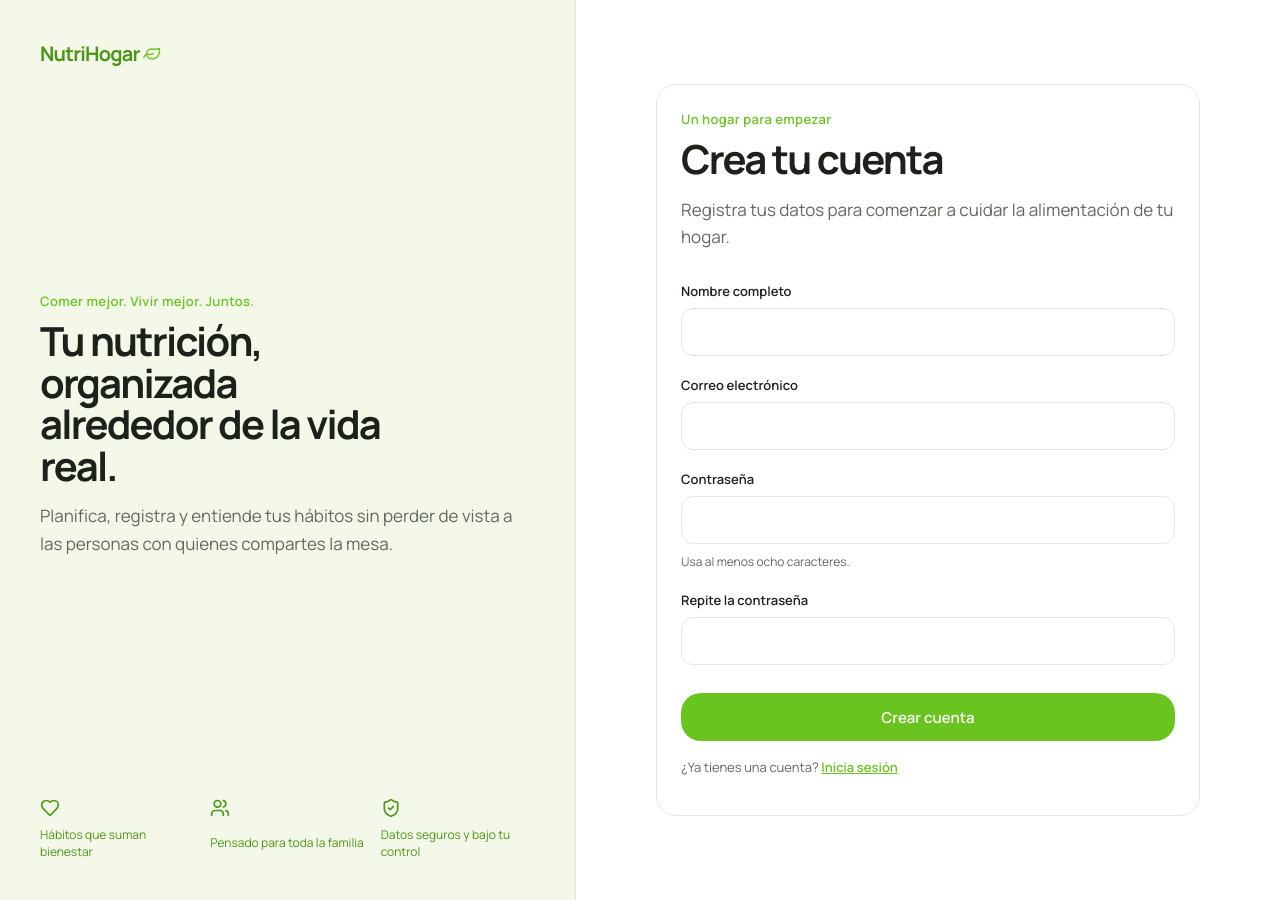
Test: RegisterPage › registers and asks the user to confirm the email
Step 1. Type "Alejandro Sojo" into the field labelled "Nombre completo" → x=928, y=332, box [681,308,1175,356]
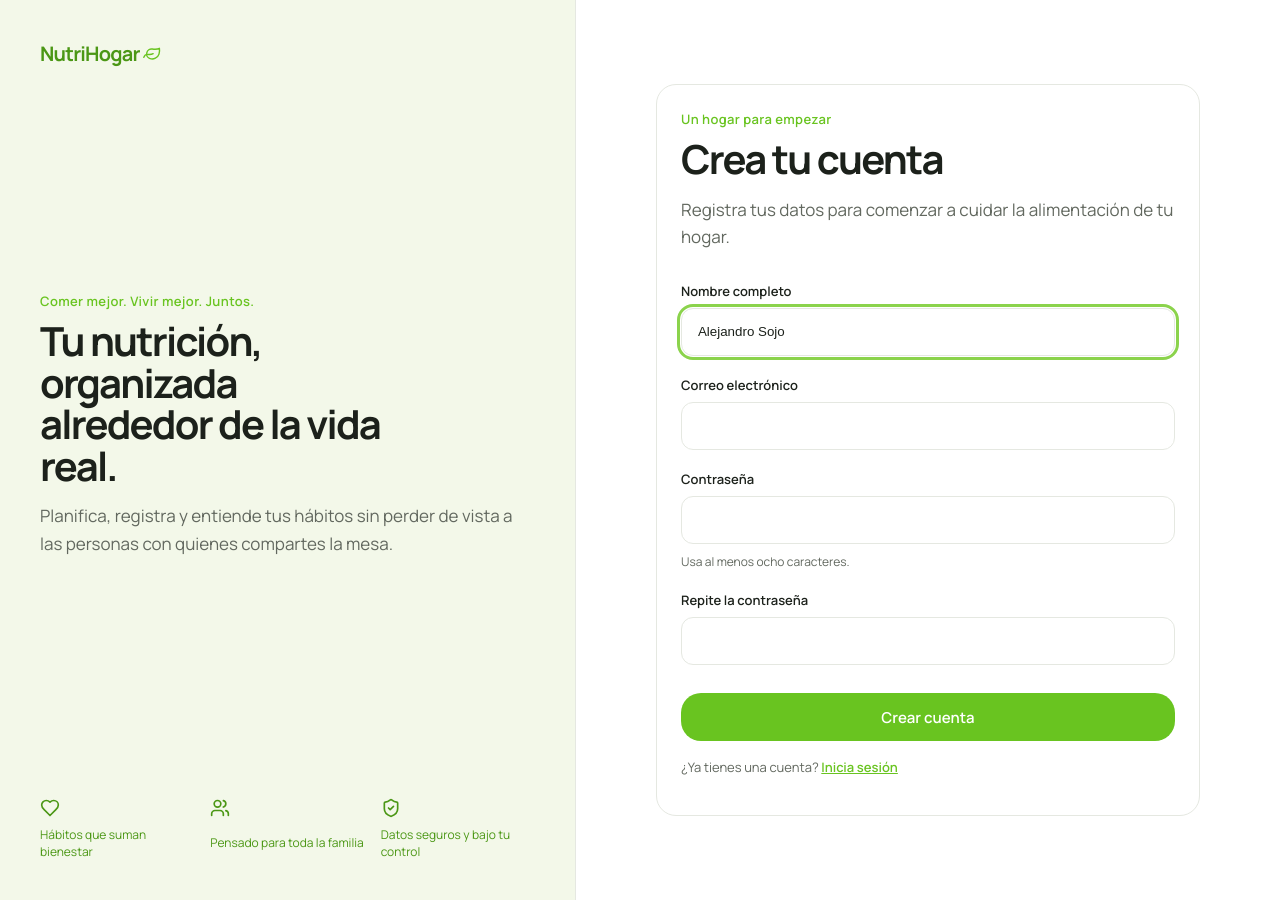
Step 2. Type "adult@example.com" into the field labelled "Correo electrónico" → x=928, y=426, box [681,402,1175,450]
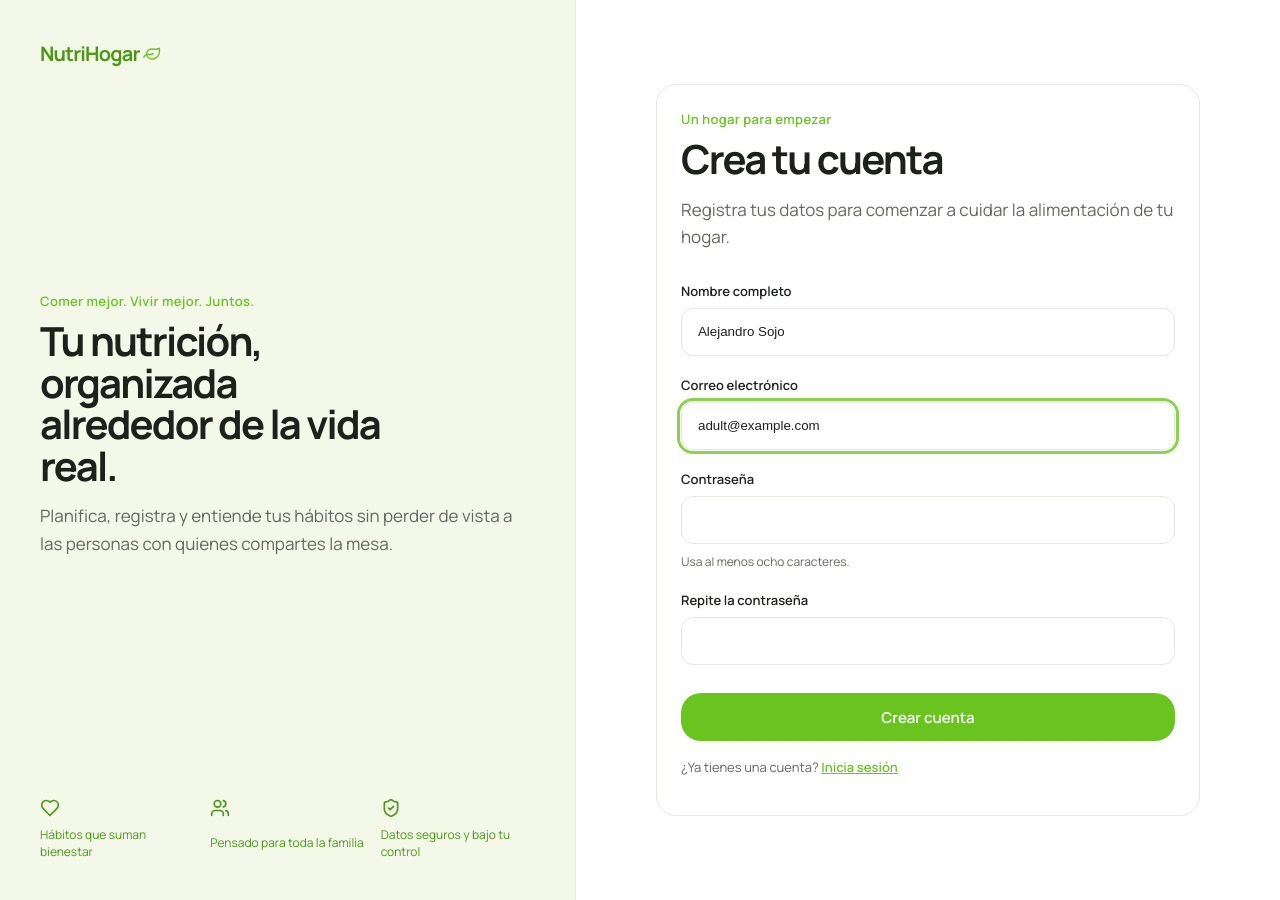
Step 3. Type "secret-password" into the password field labelled "Contraseña" → x=928, y=520, box [681,496,1175,544]
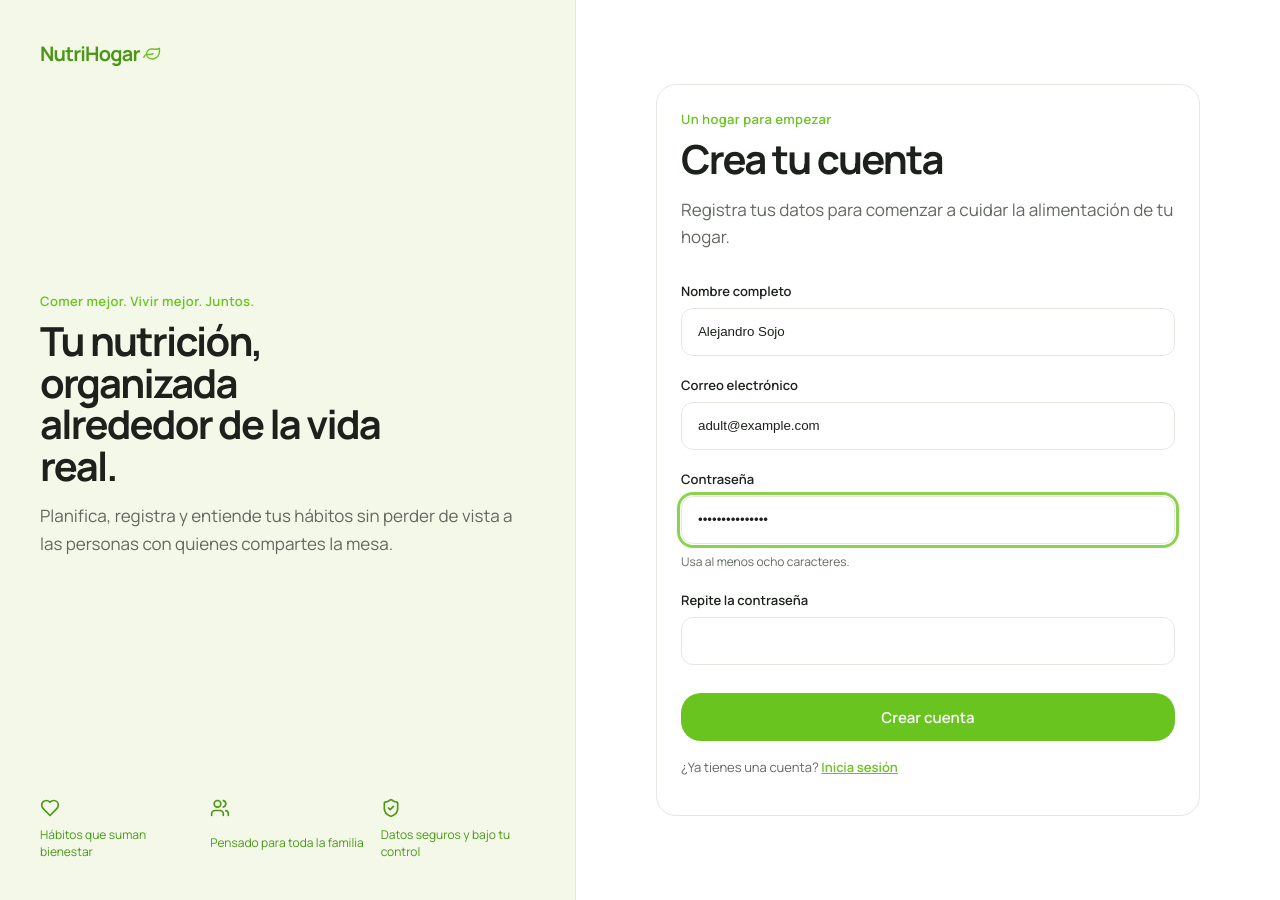
Step 4. Type "secret-password" into the password field labelled "Repite la contraseña" → x=928, y=641, box [681,617,1175,665]
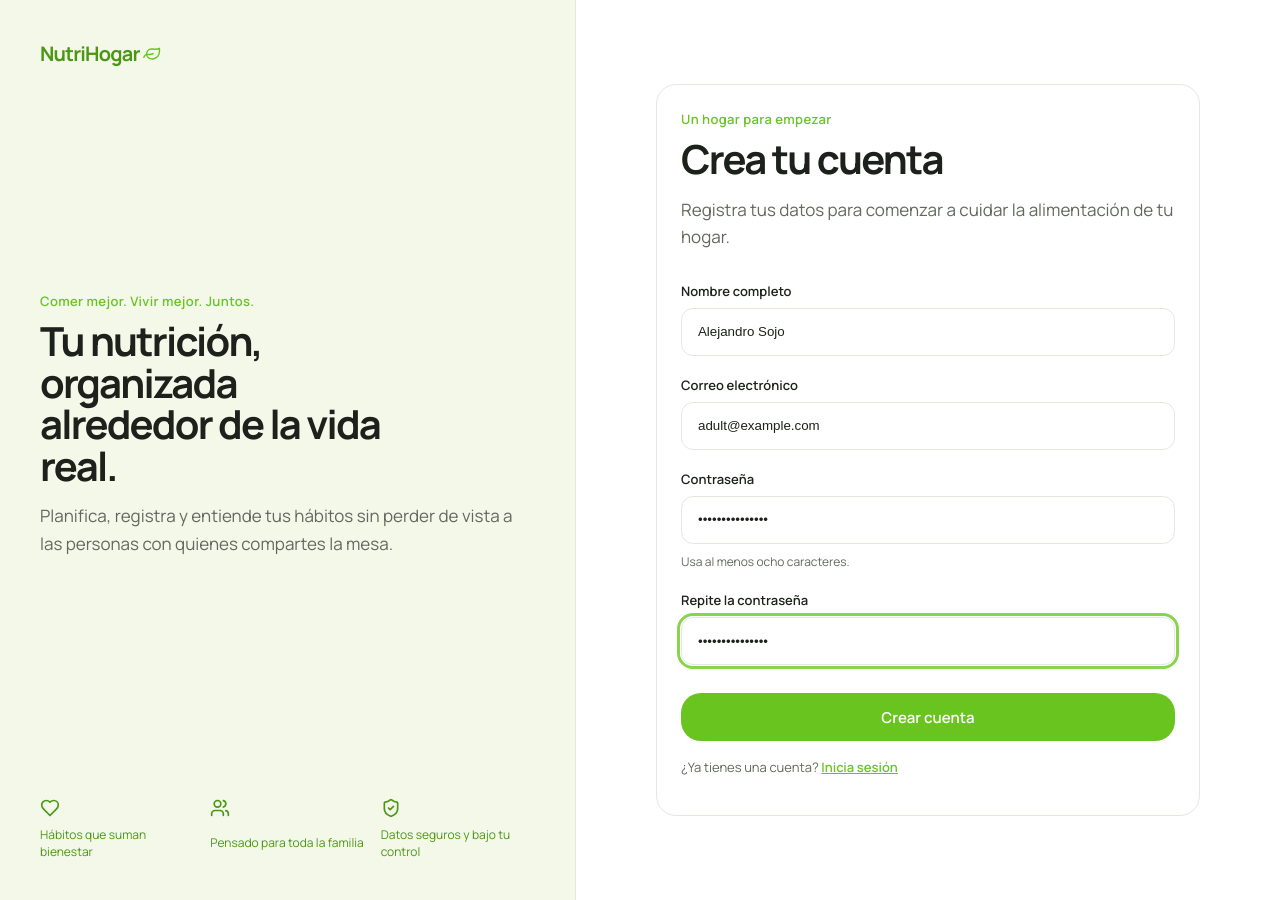
Step 5. Click the button "Crear cuenta" → x=928, y=717, box [681,693,1175,741]
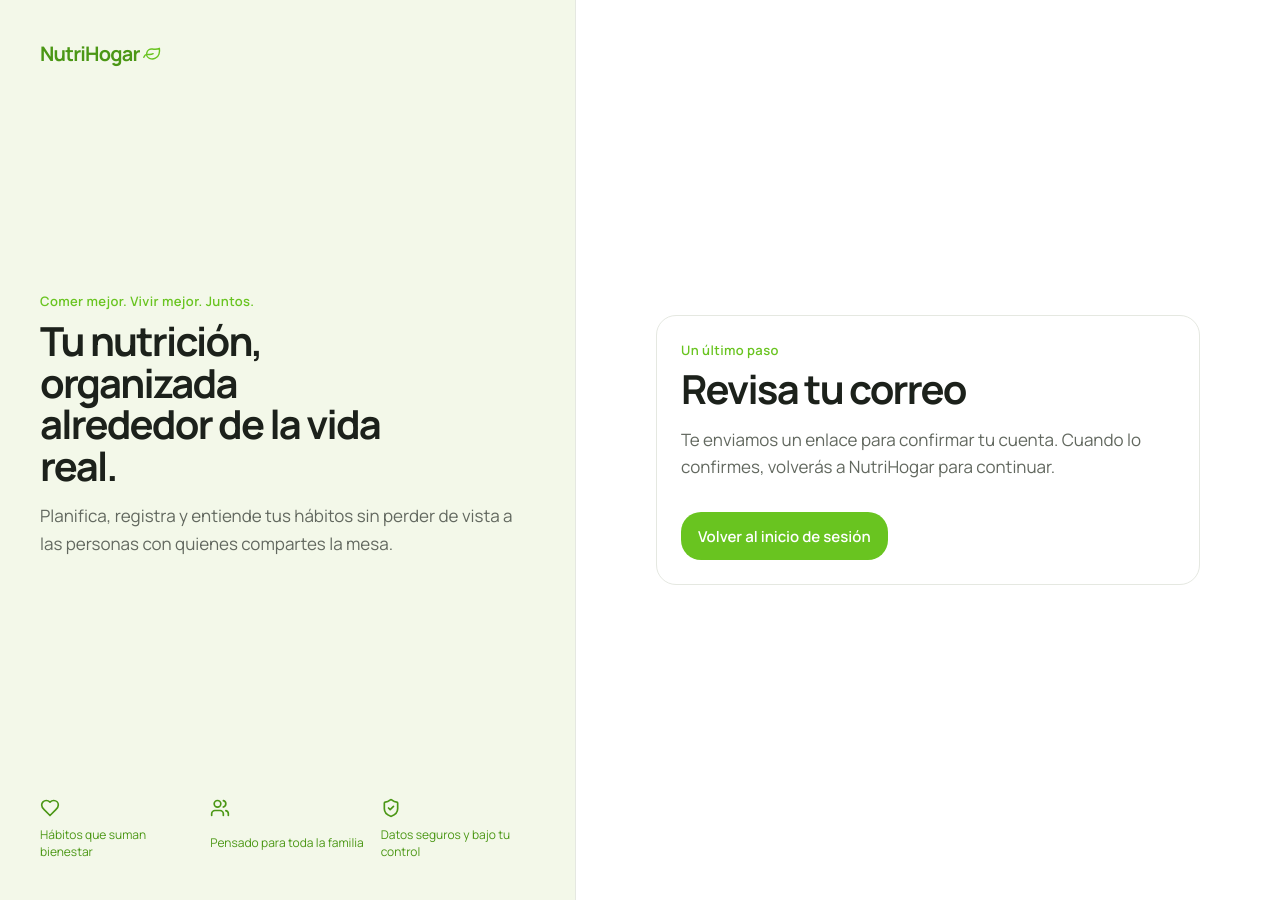
Expected: the heading "Revisa tu correo" is shown, [681,361,966,416]
